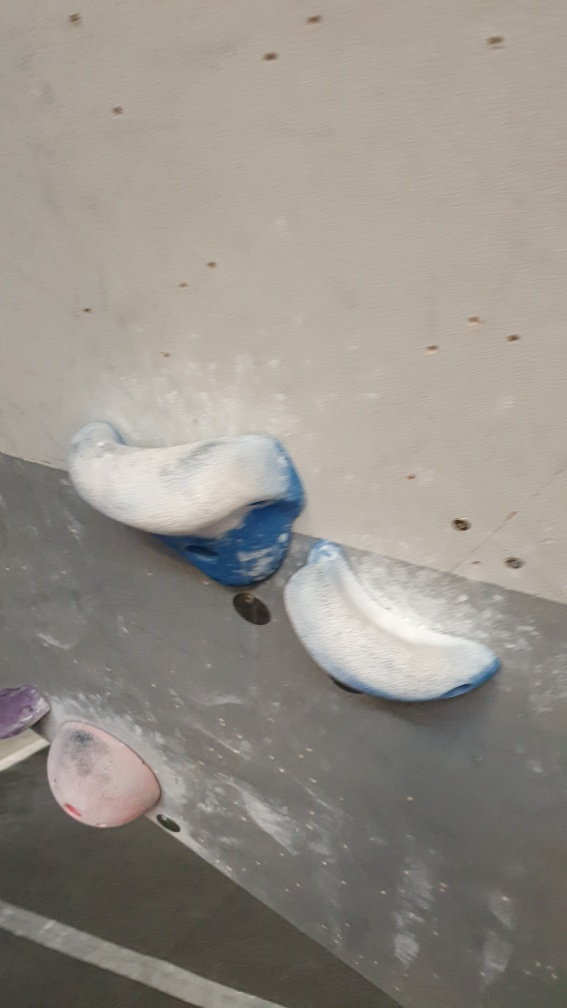Hand Start: (230, 586, 276, 630), (152, 806, 180, 834)
Jug: (67, 416, 315, 594), (281, 537, 500, 712)
Sloper: (38, 716, 165, 836)
